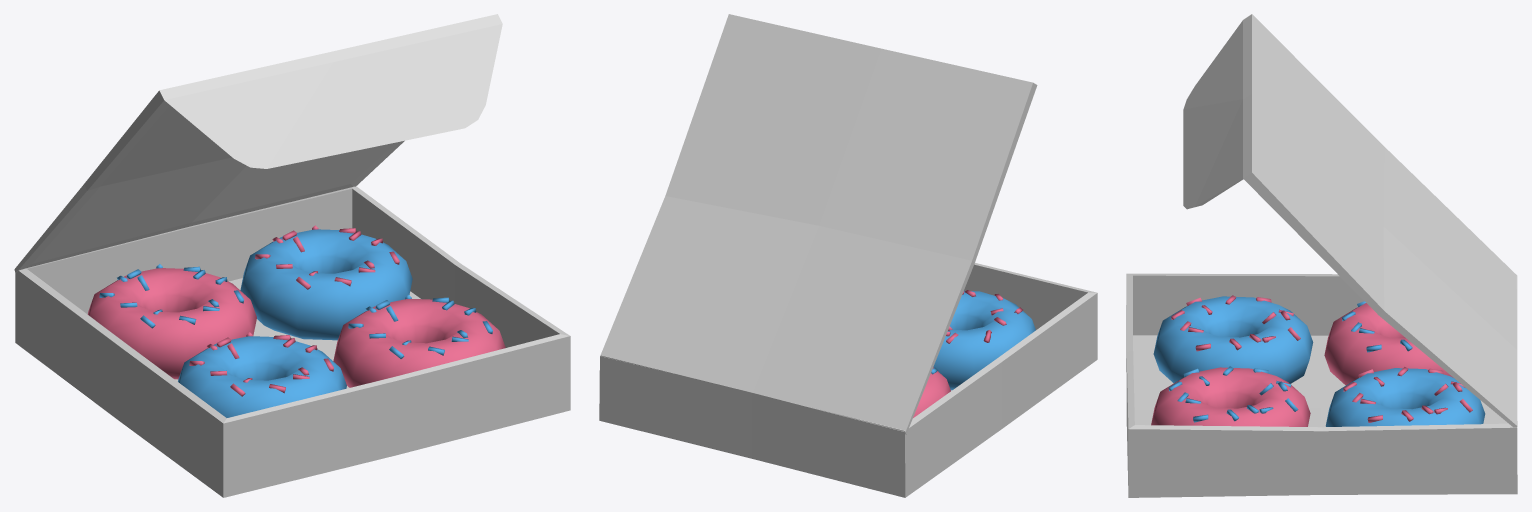
Rendered from donut_box.fbx.
3 renders of one model, left to right at view 1: azimuth 30°, elevation 25°; view 2: azimuth 150°, elevation 25°; view 3: azimuth 270°, elevation 25°, orthographic. The views are drawn at different scales.
Parts seen in each view (by area): view 1: donut_box; view 2: donut_box; view 3: donut_box.
Part boxes in pixels (x1=…): donut_box: x1=14, y1=14, x2=570, y2=497; donut_box: x1=599, y1=14, x2=1097, y2=497; donut_box: x1=1126, y1=14, x2=1517, y2=497.
Bounding box in the file's own units: 37.93 × 37.16 × 39.9.
